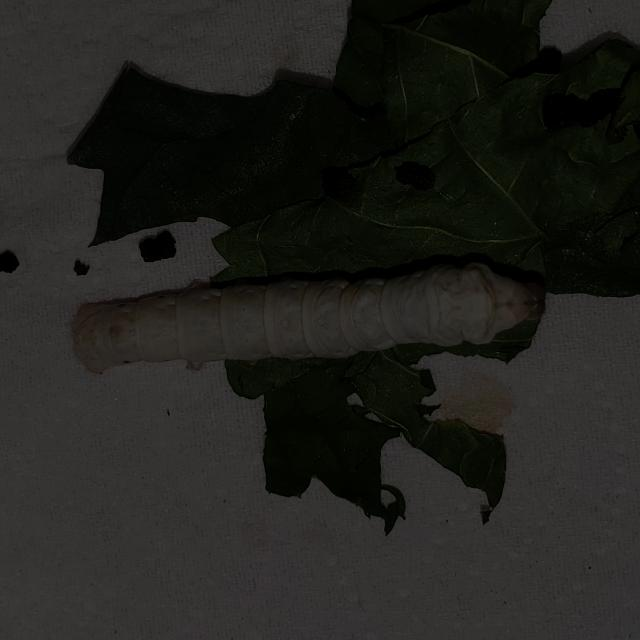Healthy: (47, 229, 572, 400)
